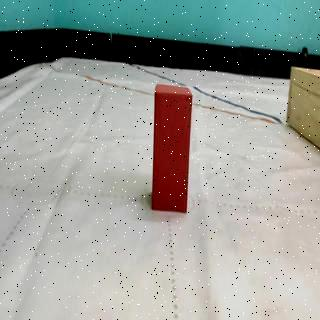redbox: (151, 84, 193, 212)
